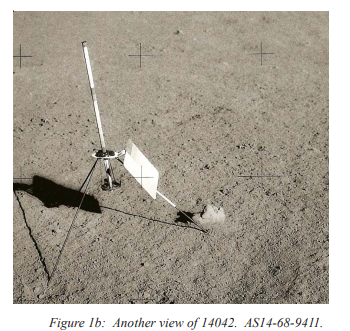Breccia: (198, 196, 230, 227)
